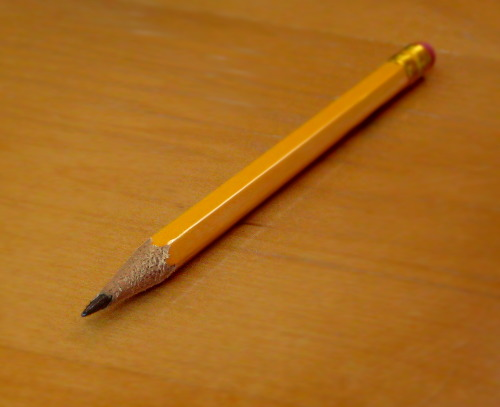pencil: (42, 12, 474, 388)
